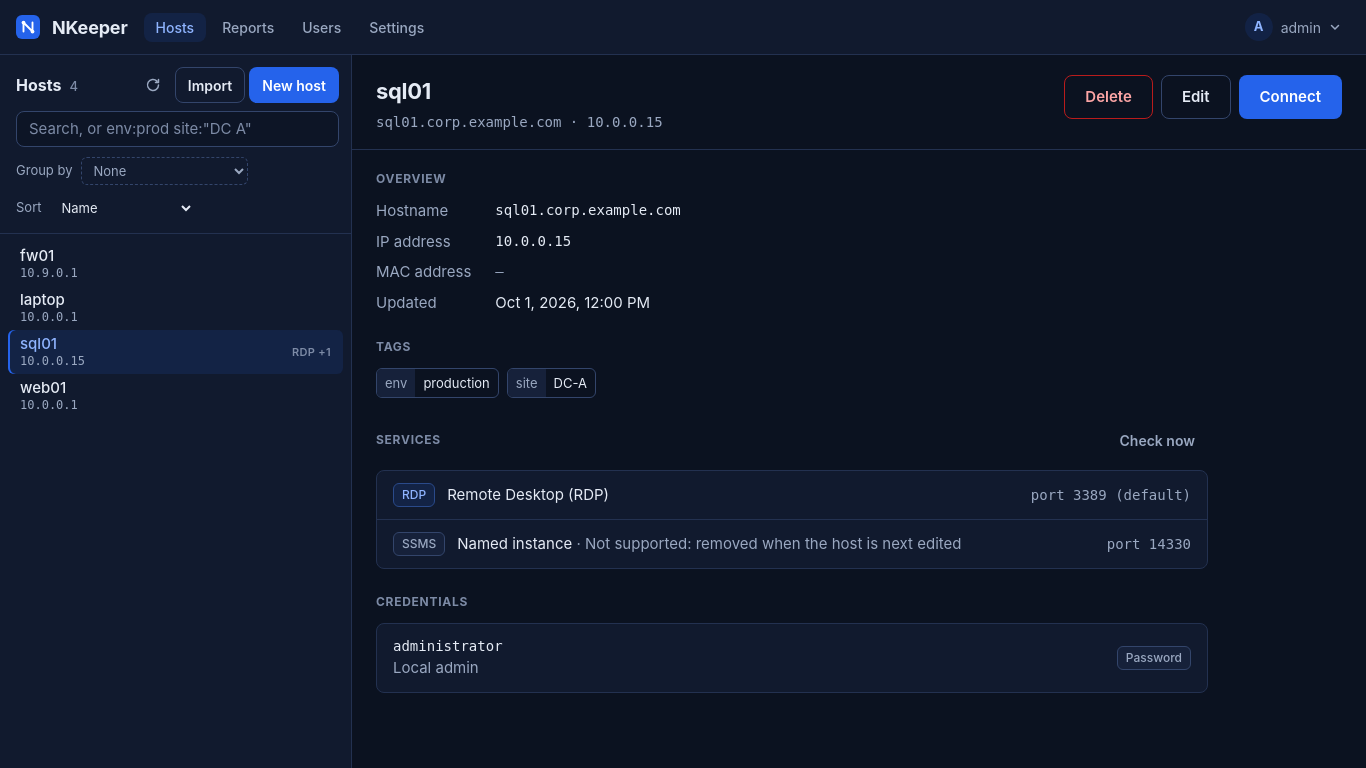
Test: workspace › filters the tree to a tag when its chip is clicked
Click the button "env production": (437, 383) [376, 368, 499, 398]
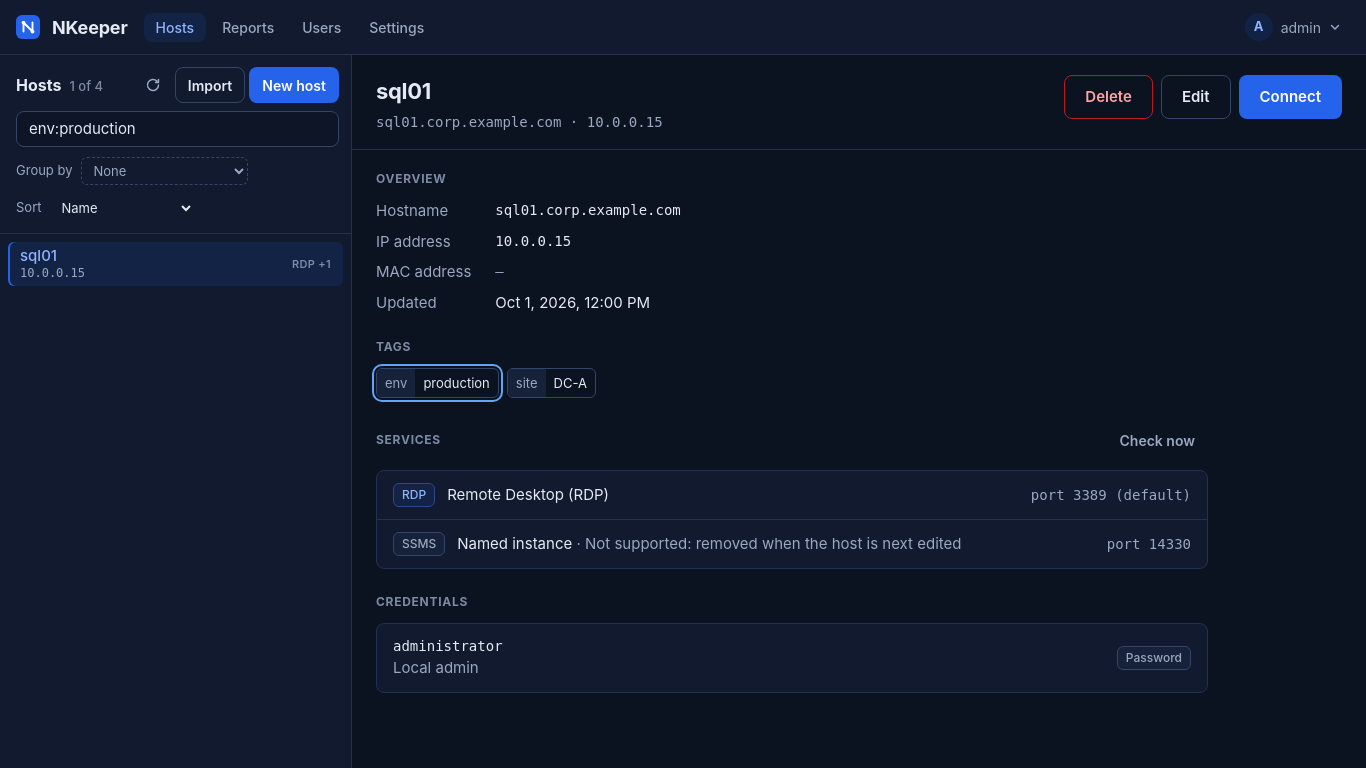
expect the search field named "Search hosts" holds "env:production": met, box [16, 111, 339, 147]
